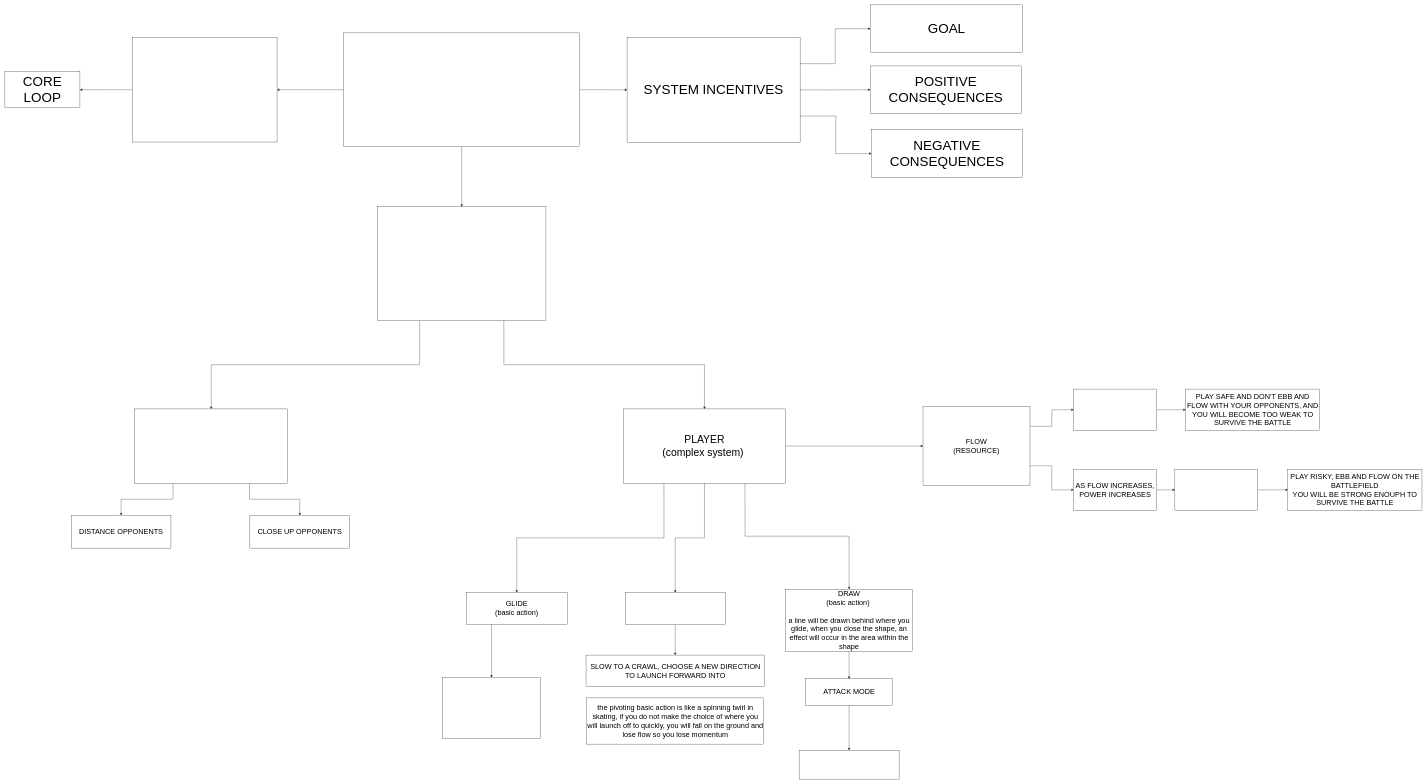
Some shapes in this 1427 by 784 pixel diagram are drawn without their labels. The shapes that lost their labels are listed below. From the top down, each one's box as (x1, y1, x2, y2) in pixels, then its label:
(132, 37, 277, 142): SYSTEM LOOPS
(343, 33, 580, 147): SYSTEM
(377, 207, 546, 320): SYSTEM COMPONENTS
(1073, 389, 1157, 431): AS FLOW DECREASES, POWER DECREASES
(135, 409, 288, 483): OPPONENTS (complex system)
(1175, 469, 1258, 511): SLIPSTREAMING
(625, 592, 725, 625): PIVOT (basic action)
(442, 677, 541, 739): YOU MOVE LIKE AN OLYMPIC FIGURE SKATER
(799, 750, 899, 779): ANYTHING INSIDE THE SHAPE YOU SNAP WILL BE DAMAGED
